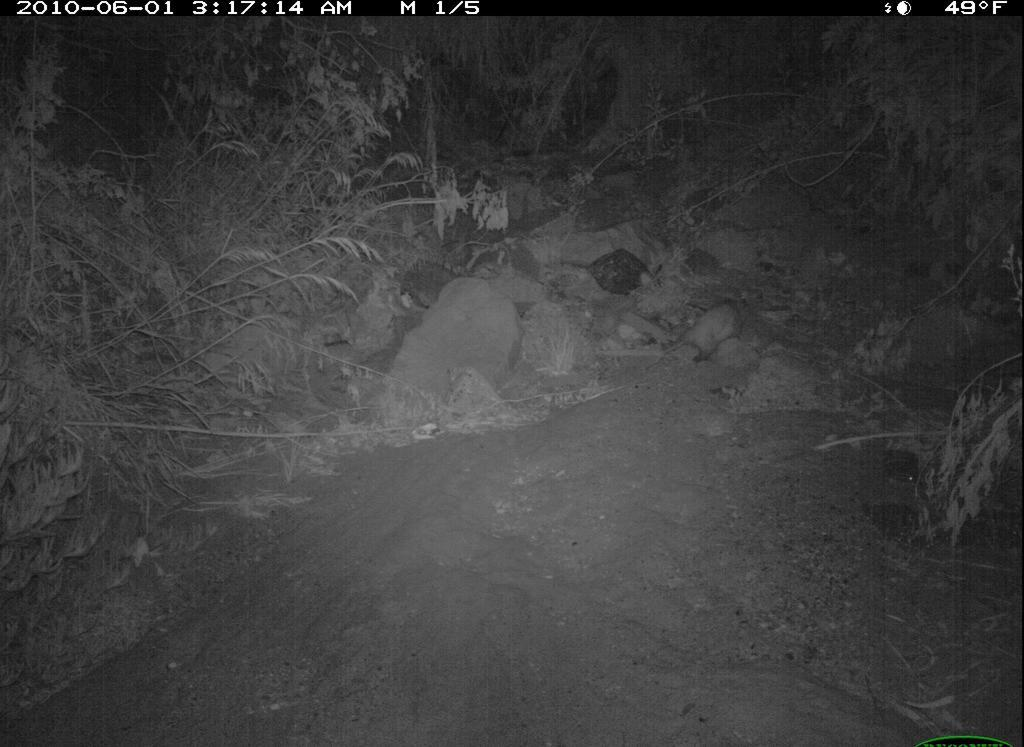opossum: (653, 282, 752, 376)
